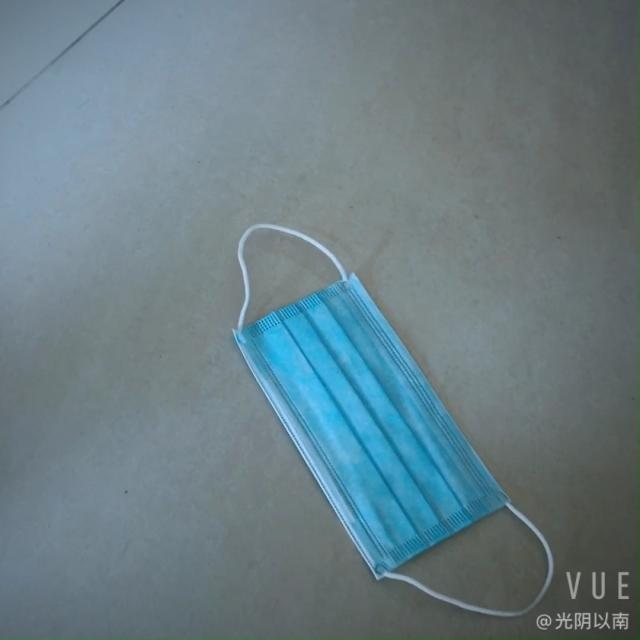face mask: (234, 272, 514, 574)
